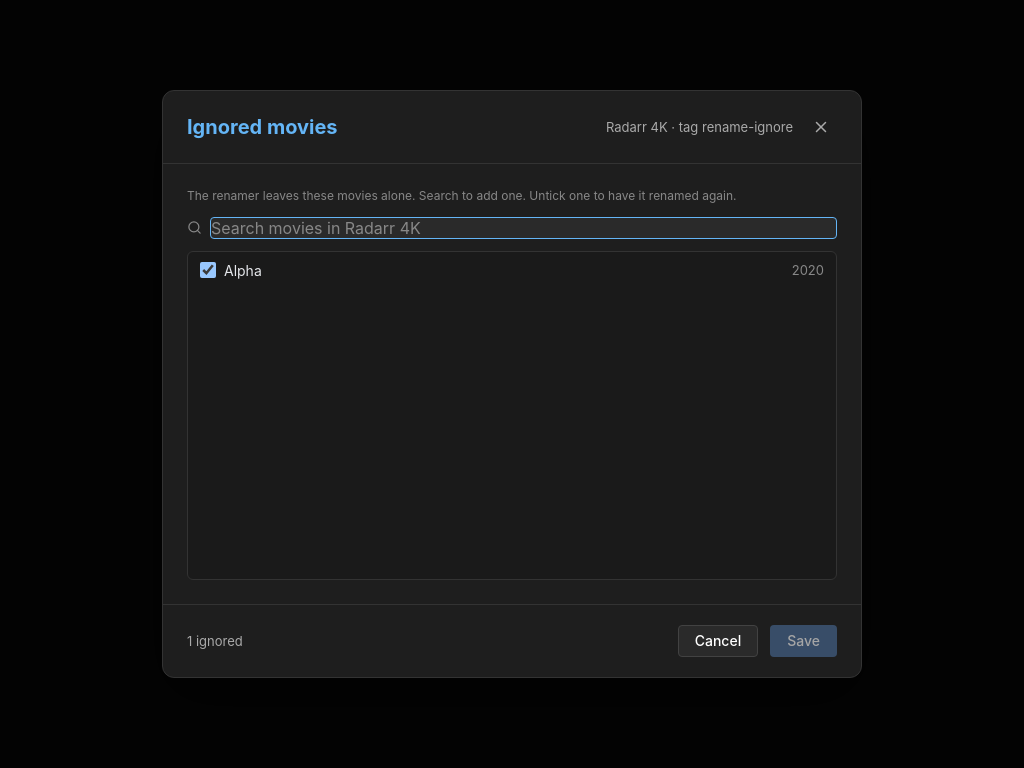
Test: RenameTagModal › lists the ignored movies, finds others by search, and saves every change at once
Later steps or results of the test are not shown.
Expected: the dialog "Ignored movies" is shown, 162,90 -> 862,678
Expected: the text "Radarr 4K · tag rename-ignore" is shown, 606,119 -> 793,135
Type "beta" into the search field labelled "Search movies". click: (524, 228)
box: 210,217 -> 837,239
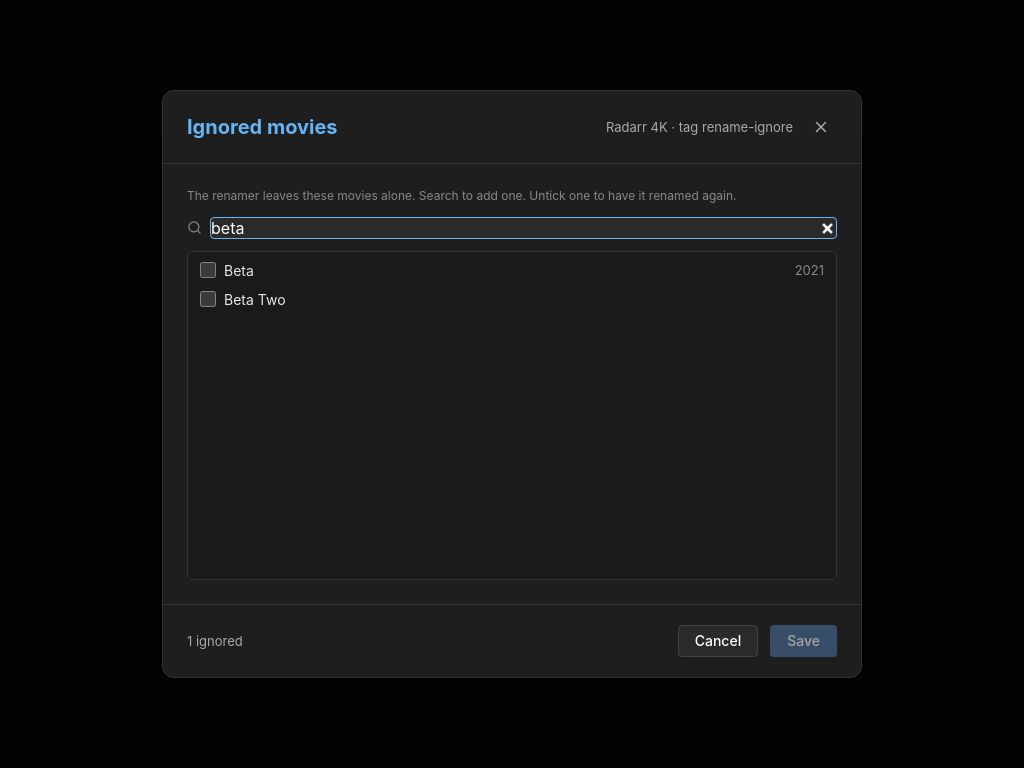
Click the checkbox labelled "Beta 2021". click: (208, 270)
box: 200,262 -> 216,278
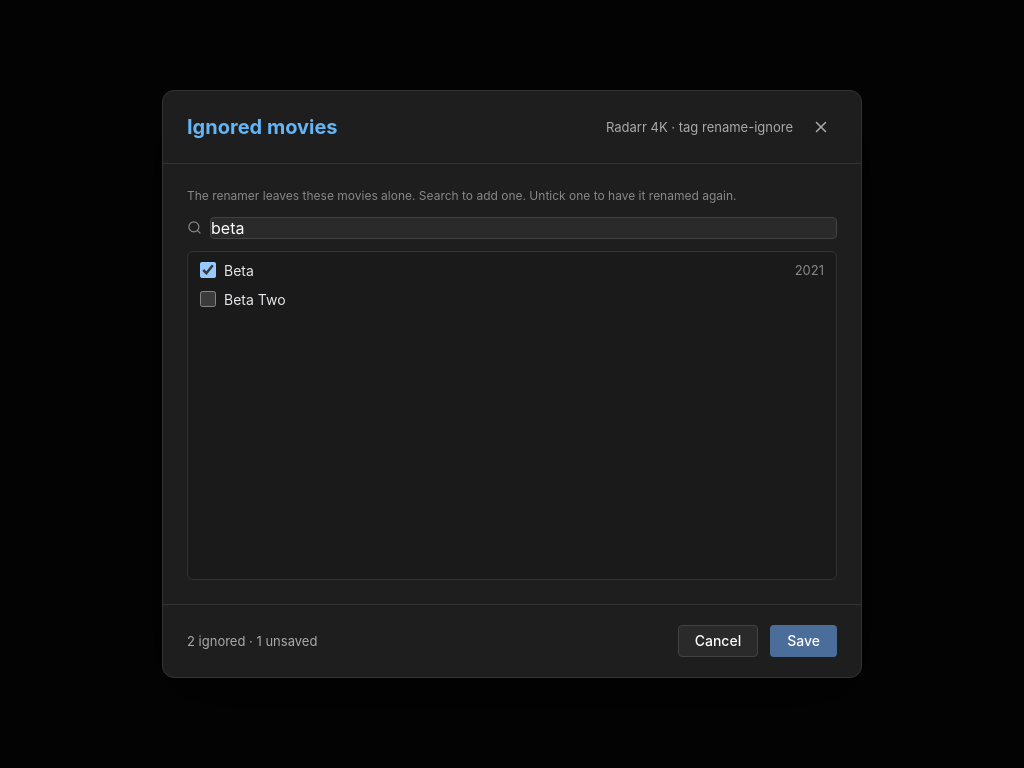
Clear the search field named "Search movies". click: (524, 228)
box: 210,217 -> 837,239
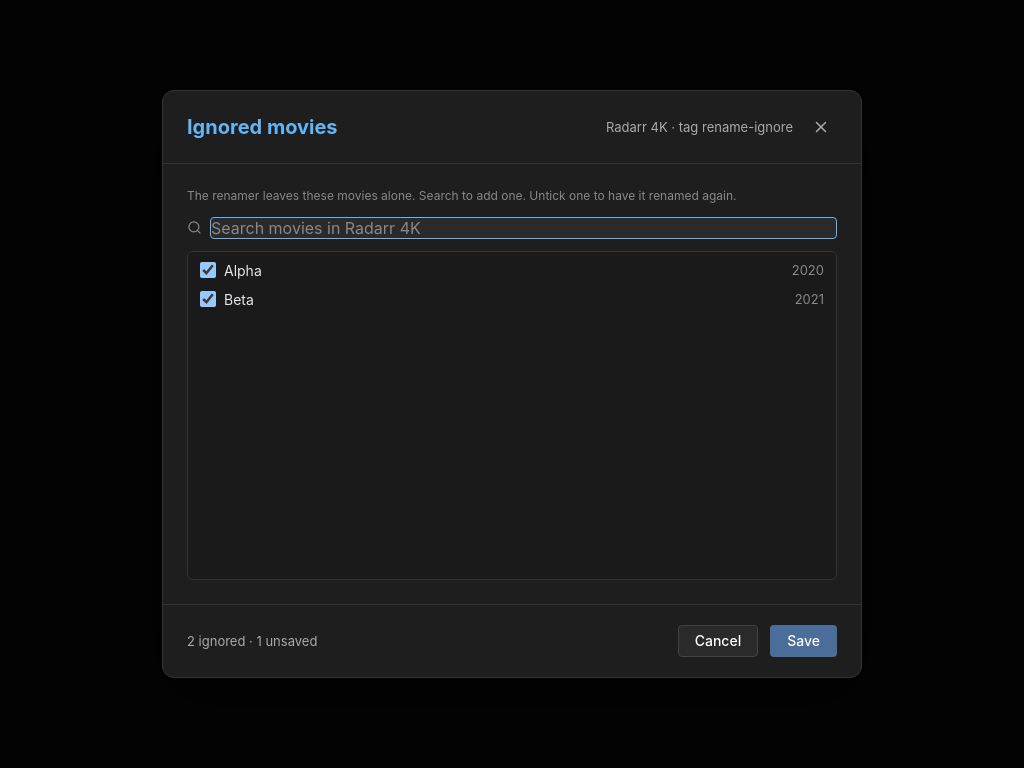
Back on the ignored list: the new one shows, and an unticked one stays until Save.
Click the checkbox labelled "Alpha 2020". click: (208, 270)
box: 200,262 -> 216,278
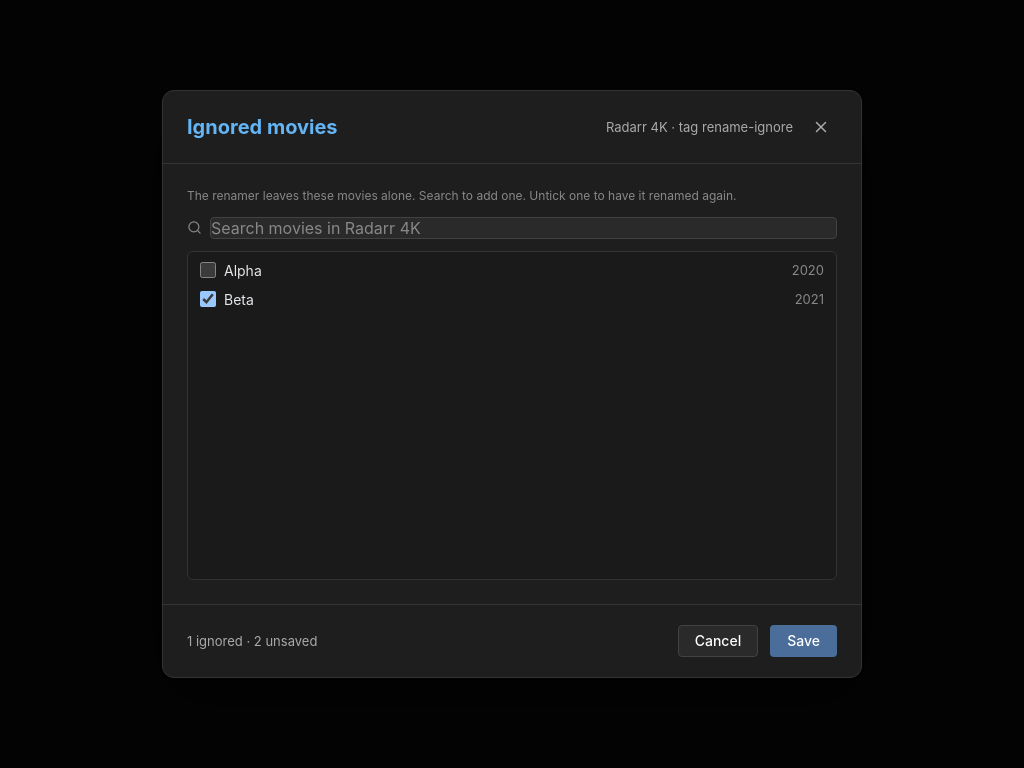
Expected: the text "1 ignored · 2 unsaved" is shown, 187,633 -> 317,649
